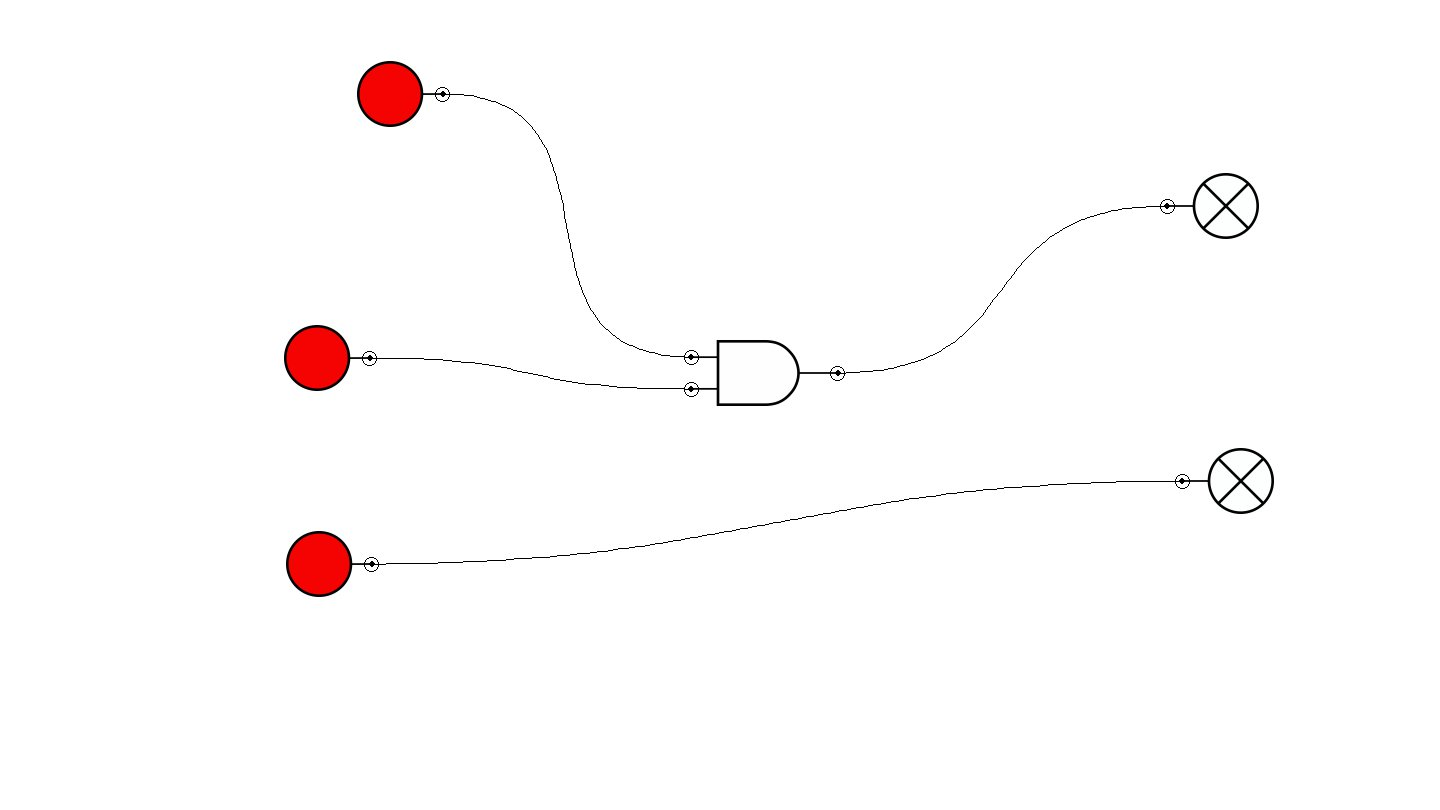and: (684, 340, 845, 406)
bulb: (1175, 448, 1274, 514), (1160, 173, 1259, 239)
switch_False: (284, 325, 377, 391), (286, 531, 379, 597), (357, 61, 450, 127)
